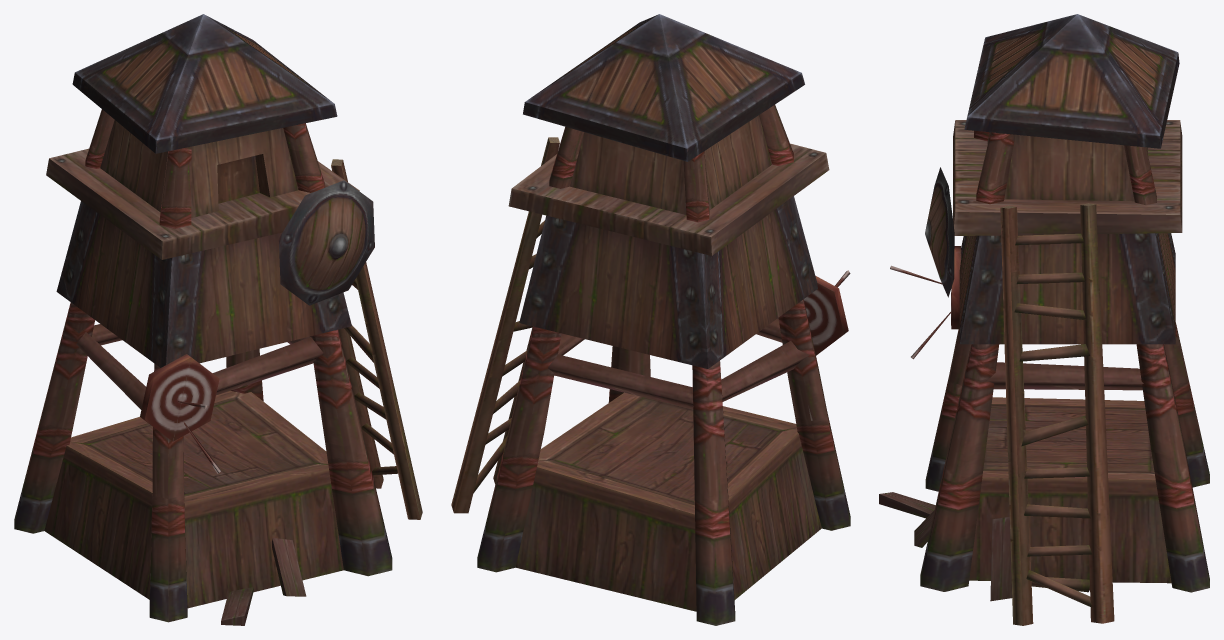
File: jianta@idle.FBX
The picture shows the model from 3 angles, left to right: view 1: azimuth 30°, elevation 25°; view 2: azimuth 150°, elevation 25°; view 3: azimuth 270°, elevation 25°; orthographic projection. The views are drawn at different scales.
Parts seen in each view (by area): view 1: common_yewai_jianta01_po_23, common_yewai_jianta01_po_07, common_yewai_jianta01_po_31, common_yewai_jianta01_po_33, common_yewai_jianta01_po_13, common_yewai_jianta01_po_03, common_yewai_jianta01_po_41, common_yewai_jianta01_po_19, common_yewai_jianta01_po_18, common_yewai_jianta01_po_01, common_yewai_jianta01_po_14, common_yewai_jianta01_po_17 (+16 smaller); view 2: common_yewai_jianta01_po_23, common_yewai_jianta01_po_07, common_yewai_jianta01_po_32, common_yewai_jianta01_po_13, common_yewai_jianta01_po_33, common_yewai_jianta01_po_19, common_yewai_jianta01_po_28, common_yewai_jianta01_po_20, common_yewai_jianta01_po_41, common_yewai_jianta01_po_17, common_yewai_jianta01_po_29, common_yewai_jianta01_po_40 (+11 smaller); view 3: common_yewai_jianta01_po_23, common_yewai_jianta01_po_07, common_yewai_jianta01_po_02, common_yewai_jianta01_po_41, common_yewai_jianta01_po_13, common_yewai_jianta01_po_04, common_yewai_jianta01_po_30, common_yewai_jianta01_po_18, common_yewai_jianta01_po_20, common_yewai_jianta01_po_36, common_yewai_jianta01_po_40, common_yewai_jianta01_po_05 (+13 smaller).
Part boxes in pixels (x1=…): common_yewai_jianta01_po_23: x1=44, y1=391, x2=343, y2=608; common_yewai_jianta01_po_07: x1=72, y1=14, x2=312, y2=153; common_yewai_jianta01_po_31: x1=166, y1=232, x2=351, y2=364; common_yewai_jianta01_po_33: x1=56, y1=201, x2=171, y2=367; common_yewai_jianta01_po_13: x1=46, y1=148, x2=359, y2=259; common_yewai_jianta01_po_03: x1=278, y1=180, x2=374, y2=305; common_yewai_jianta01_po_41: x1=338, y1=292, x2=422, y2=519; common_yewai_jianta01_po_19: x1=14, y1=345, x2=87, y2=533; common_yewai_jianta01_po_18: x1=325, y1=434, x2=392, y2=576; common_yewai_jianta01_po_01: x1=191, y1=128, x2=298, y2=217; common_yewai_jianta01_po_14: x1=140, y1=354, x2=219, y2=441; common_yewai_jianta01_po_17: x1=149, y1=492, x2=187, y2=622; common_yewai_jianta01_po_23: x1=515, y1=392, x2=821, y2=611; common_yewai_jianta01_po_07: x1=523, y1=14, x2=804, y2=161; common_yewai_jianta01_po_32: x1=519, y1=215, x2=707, y2=368; common_yewai_jianta01_po_13: x1=508, y1=143, x2=829, y2=255; common_yewai_jianta01_po_33: x1=701, y1=196, x2=817, y2=368; common_yewai_jianta01_po_19: x1=693, y1=412, x2=735, y2=625; common_yewai_jianta01_po_28: x1=570, y1=132, x2=686, y2=214; common_yewai_jianta01_po_20: x1=477, y1=426, x2=543, y2=572; common_yewai_jianta01_po_41: x1=451, y1=321, x2=532, y2=513; common_yewai_jianta01_po_17: x1=795, y1=411, x2=850, y2=530; common_yewai_jianta01_po_29: x1=704, y1=115, x2=771, y2=210; common_yewai_jianta01_po_40: x1=510, y1=326, x2=561, y2=437; common_yewai_jianta01_po_23: x1=969, y1=397, x2=1171, y2=583; common_yewai_jianta01_po_07: x1=972, y1=14, x2=1179, y2=148; common_yewai_jianta01_po_02: x1=960, y1=233, x2=1175, y2=344; common_yewai_jianta01_po_41: x1=1005, y1=363, x2=1114, y2=625; common_yewai_jianta01_po_13: x1=953, y1=120, x2=1182, y2=235; common_yewai_jianta01_po_04: x1=1000, y1=203, x2=1105, y2=414; common_yewai_jianta01_po_30: x1=1004, y1=134, x2=1134, y2=201; common_yewai_jianta01_po_18: x1=920, y1=449, x2=984, y2=591; common_yewai_jianta01_po_20: x1=1151, y1=445, x2=1209, y2=592; common_yewai_jianta01_po_36: x1=948, y1=344, x2=999, y2=462; common_yewai_jianta01_po_40: x1=1136, y1=344, x2=1184, y2=455; common_yewai_jianta01_po_05: x1=987, y1=362, x2=1143, y2=390.
Bounding box in the file's own units: 5.33 × 4.75 × 8.34.
